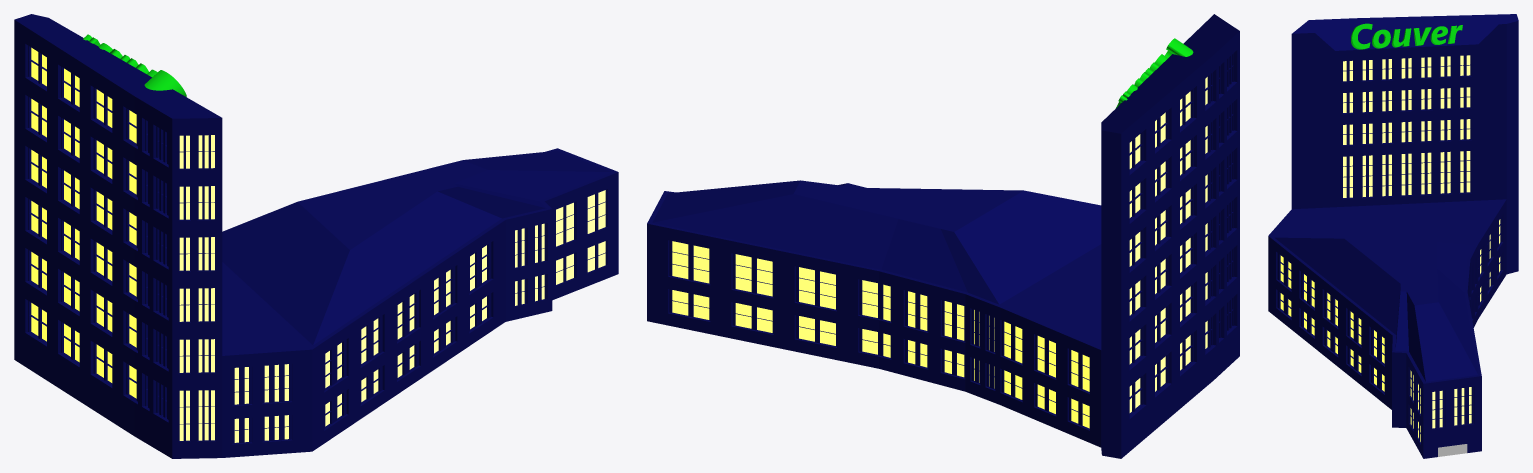
The model's file is couver_hotel_westside.fbx.
3 views of the same model, side by side, from view 1: azimuth 30°, elevation 25°; view 2: azimuth 150°, elevation 25°; view 3: azimuth 270°, elevation 25° (orthographic). The views are drawn at different scales.
Parts seen in each view (by area): view 1: couver_hotel_westside; view 2: couver_hotel_westside; view 3: couver_hotel_westside.
Boxes of the visible parts, x1=… form: couver_hotel_westside: x1=14, y1=14, x2=618, y2=458; couver_hotel_westside: x1=647, y1=14, x2=1239, y2=458; couver_hotel_westside: x1=1268, y1=14, x2=1518, y2=458.
Size of the model in its own units: 2098 by 1300 by 1142.
